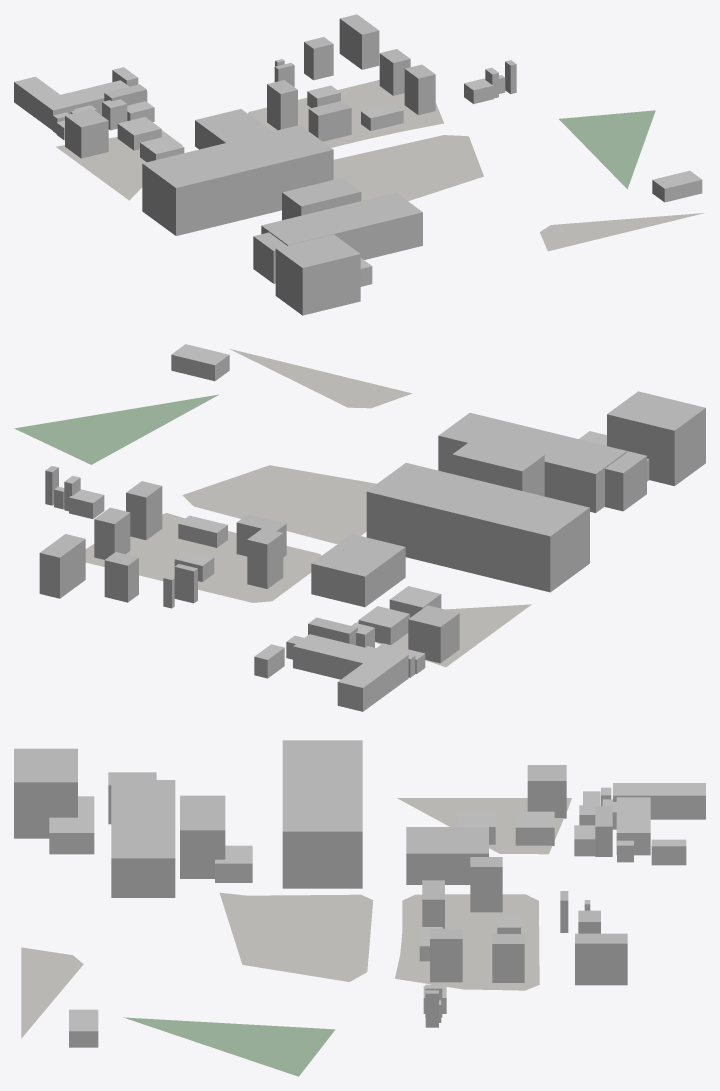
Rendered from 130_110_mid.glb.
The picture shows the model from 3 angles, top to bottom: view 1: azimuth 30°, elevation 25°; view 2: azimuth 150°, elevation 25°; view 3: azimuth 270°, elevation 25°; orthographic projection. The views are drawn at different scales.
Size of the model in its own units: 501 by 47.83 by 520.
